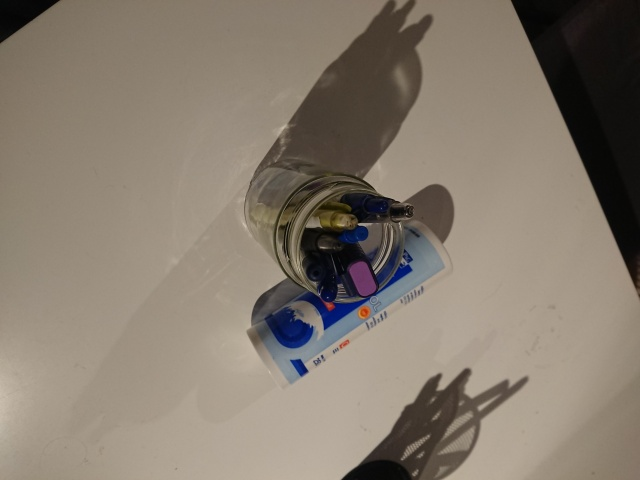Solana Pag Fine Sea Salt 250g: (241, 212, 458, 393)
